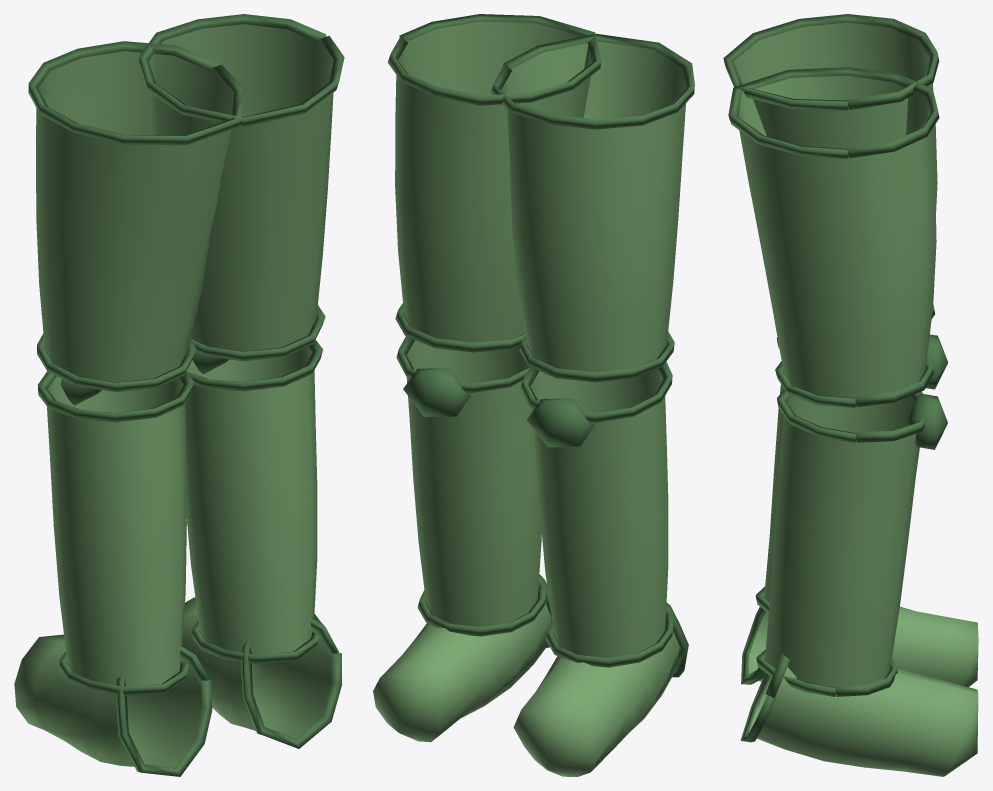
File: tungsten_greaves.glb
3 renders of one model, left to right at view 1: azimuth 30°, elevation 25°; view 2: azimuth 150°, elevation 25°; view 3: azimuth 270°, elevation 25°, orthographic. The views are drawn at different scales.
Visible parts, largest first — view 1: tungsten_greaves_cuisse.L; view 2: tungsten_greaves_cuisse.L; view 3: tungsten_greaves_cuisse.L.
Boxes of the visible parts, x1,y1,x2,y2 form: tungsten_greaves_cuisse.L: (14, 14, 344, 776); tungsten_greaves_cuisse.L: (373, 14, 694, 776); tungsten_greaves_cuisse.L: (723, 14, 978, 776).
Bounding box in the file's own units: 0.4249 × 0.9563 × 0.3366.
